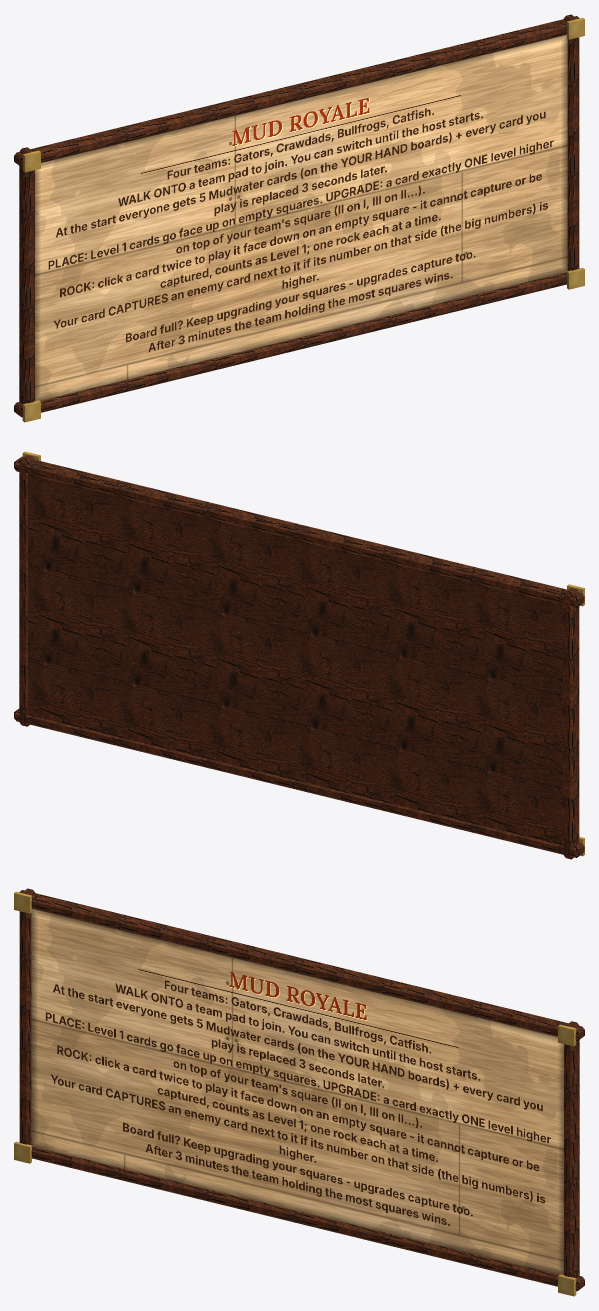
The model's file is sg_royale_rules.glb.
The picture shows the model from 3 angles, top to bottom: view 1: azimuth 30°, elevation 25°; view 2: azimuth 150°, elevation 25°; view 3: azimuth 330°, elevation 25°; orthographic projection.
Visible parts, largest first — view 1: spire; view 2: spire; view 3: spire.
Part boxes in pixels (box(x1,y1,x2,y2)): spire: box(14, 14, 584, 422); spire: box(14, 451, 584, 859); spire: box(14, 888, 584, 1296).
Size of the model in its own units: 6.36 by 2.87 by 0.19.
3 materials, 3 textured.
